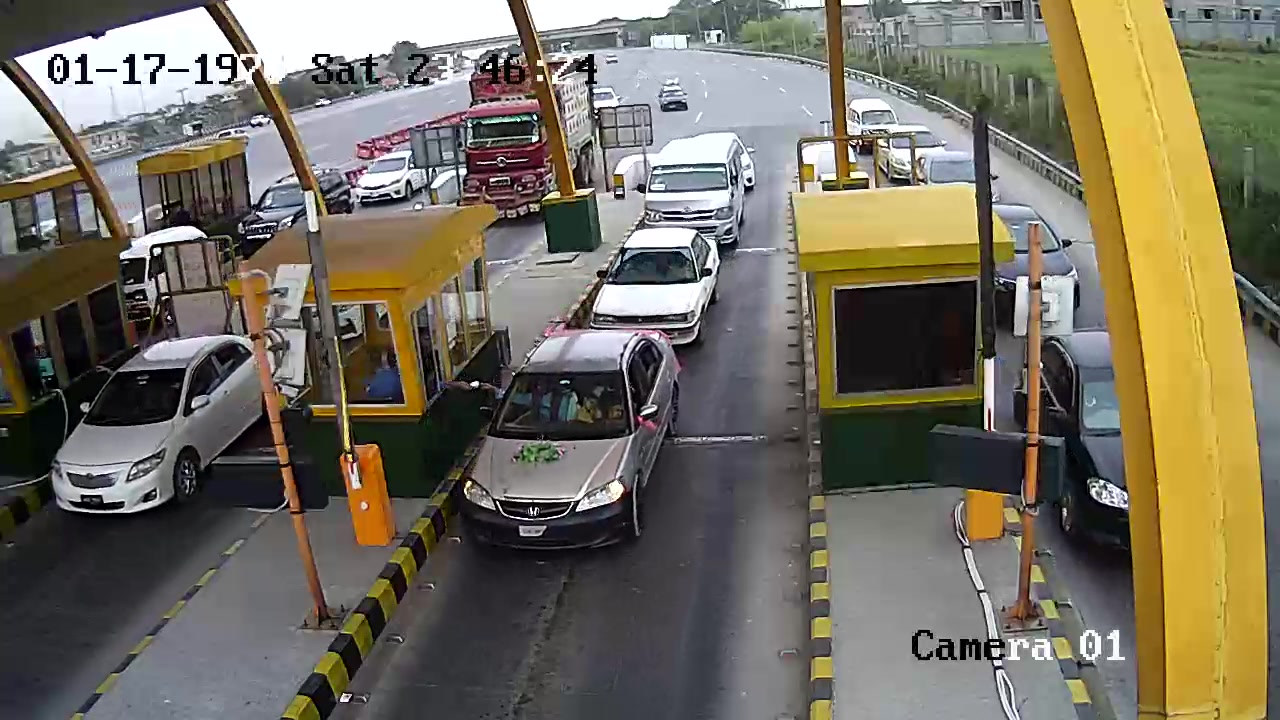F1: (456, 329, 692, 557)
